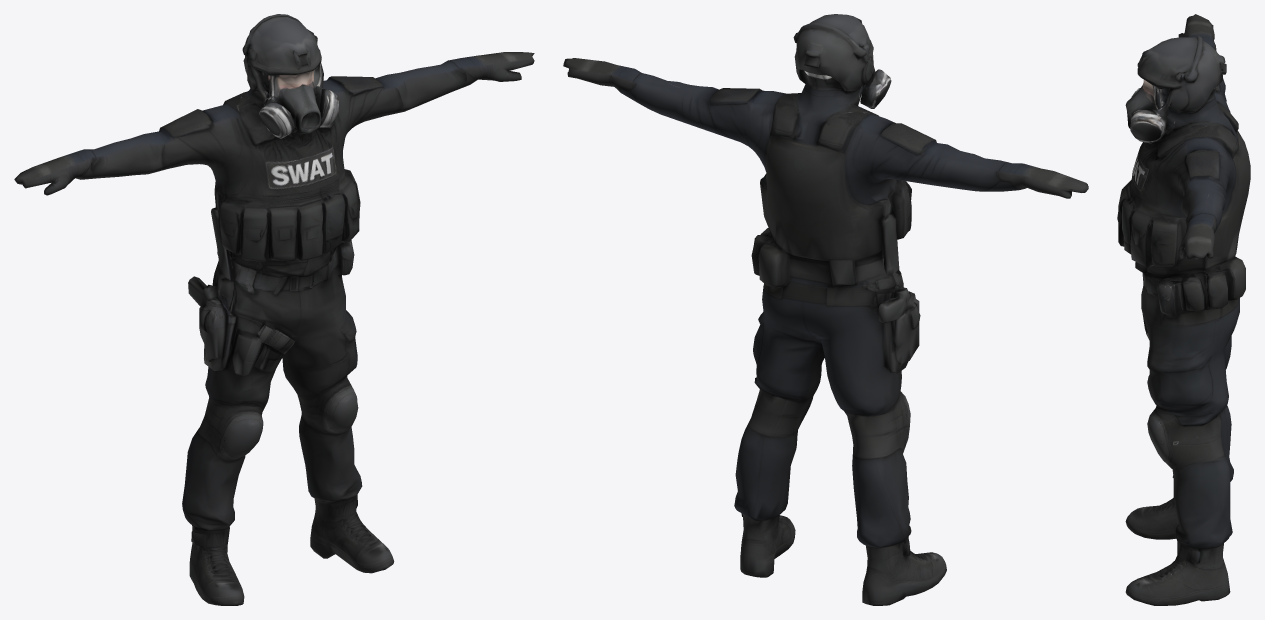
The model's file is engineer.glb.
The picture shows the model from 3 angles, left to right: view 1: azimuth 30°, elevation 25°; view 2: azimuth 150°, elevation 25°; view 3: azimuth 270°, elevation 25°; orthographic projection. The views are drawn at different scales.
Visible parts, largest first — view 1: Object_4; view 2: Object_4; view 3: Object_4.
Part boxes in pixels (x1=…): Object_4: x1=14, y1=14, x2=534, y2=605; Object_4: x1=563, y1=14, x2=1088, y2=605; Object_4: x1=1117, y1=14, x2=1250, y2=605.
Size of the model in its own units: 1.86 by 1.91 by 0.4344.
Materials: 1 (1 with a texture image).
